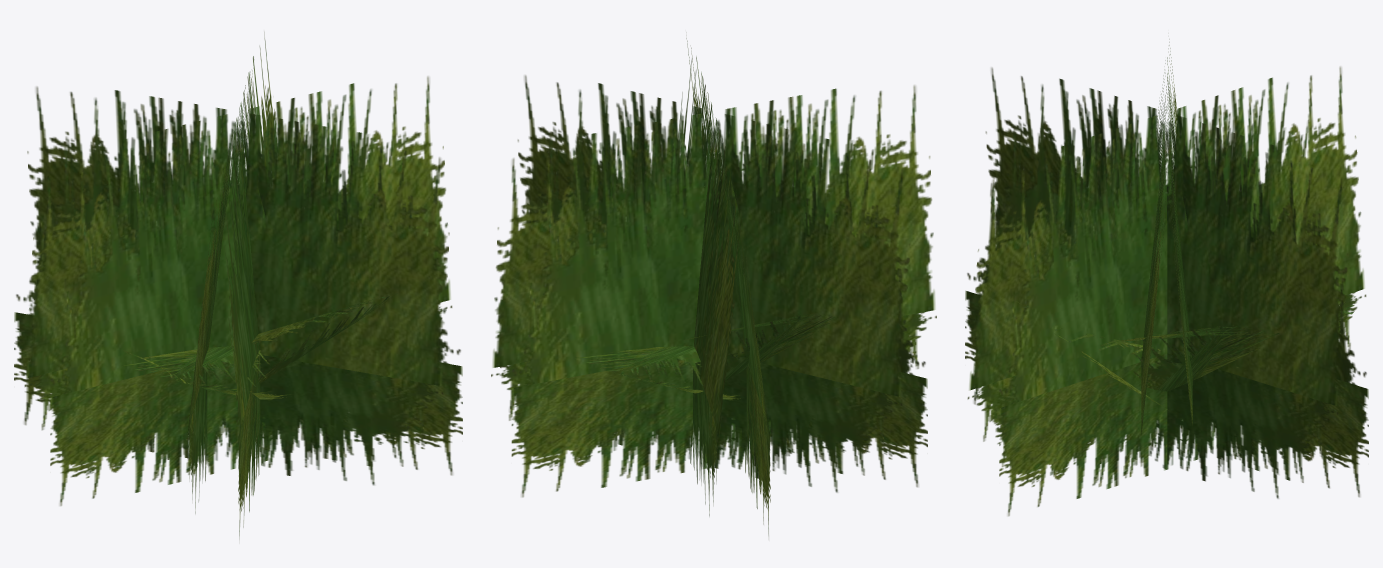
File: grass03.glb
The picture shows the model from 3 angles, left to right: view 1: azimuth 30°, elevation 25°; view 2: azimuth 150°, elevation 25°; view 3: azimuth 270°, elevation 25°; orthographic projection.
Visible parts, largest first — view 1: Grass03; view 2: Grass03; view 3: Grass03.
Part boxes in pixels (box(x1,y1,x2,y2)): Grass03: box(14, 32, 462, 538); Grass03: box(491, 38, 936, 535); Grass03: box(965, 39, 1368, 515).
Size of the model in its own units: 2.68 by 2.19 by 2.33.
Materials: 1 (1 with a texture image).
